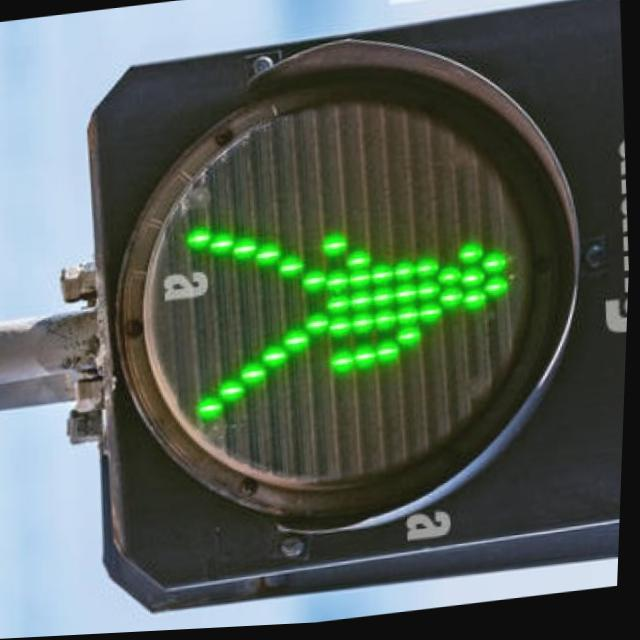green_light: (192, 175, 541, 439)
